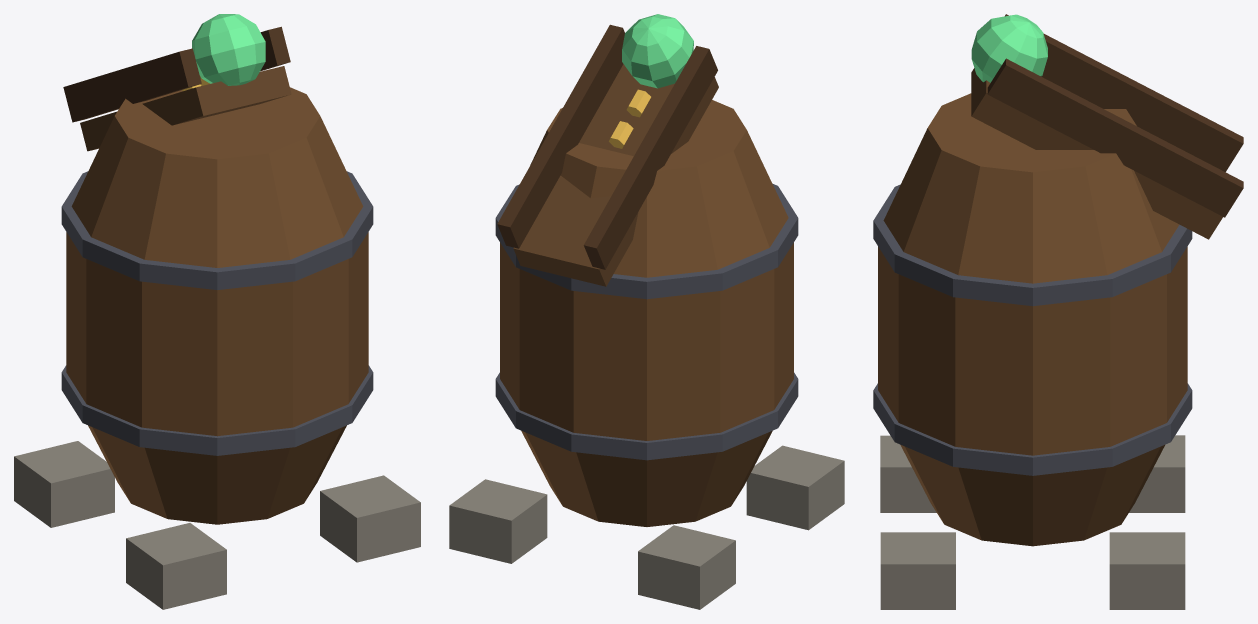
The model's file is tower_bounce_l1.glb.
3 renders of one model, left to right at view 1: azimuth 30°, elevation 25°; view 2: azimuth 150°, elevation 25°; view 3: azimuth 270°, elevation 25°, orthographic. The views are drawn at different scales.
Parts seen in each view (by area): view 1: Body, Turret; view 2: Body, Turret; view 3: Body, Turret.
Part boxes in pixels (<box>): Body: <box>14,87,420,609</box>; Turret: <box>63,14,291,151</box>; Body: <box>449,100,844,609</box>; Turret: <box>497,14,718,286</box>; Body: <box>873,93,1192,609</box>; Turret: <box>971,14,1243,239</box>.
Bounding box in the file's own units: 0.4429 × 0.8084 × 0.5141.
